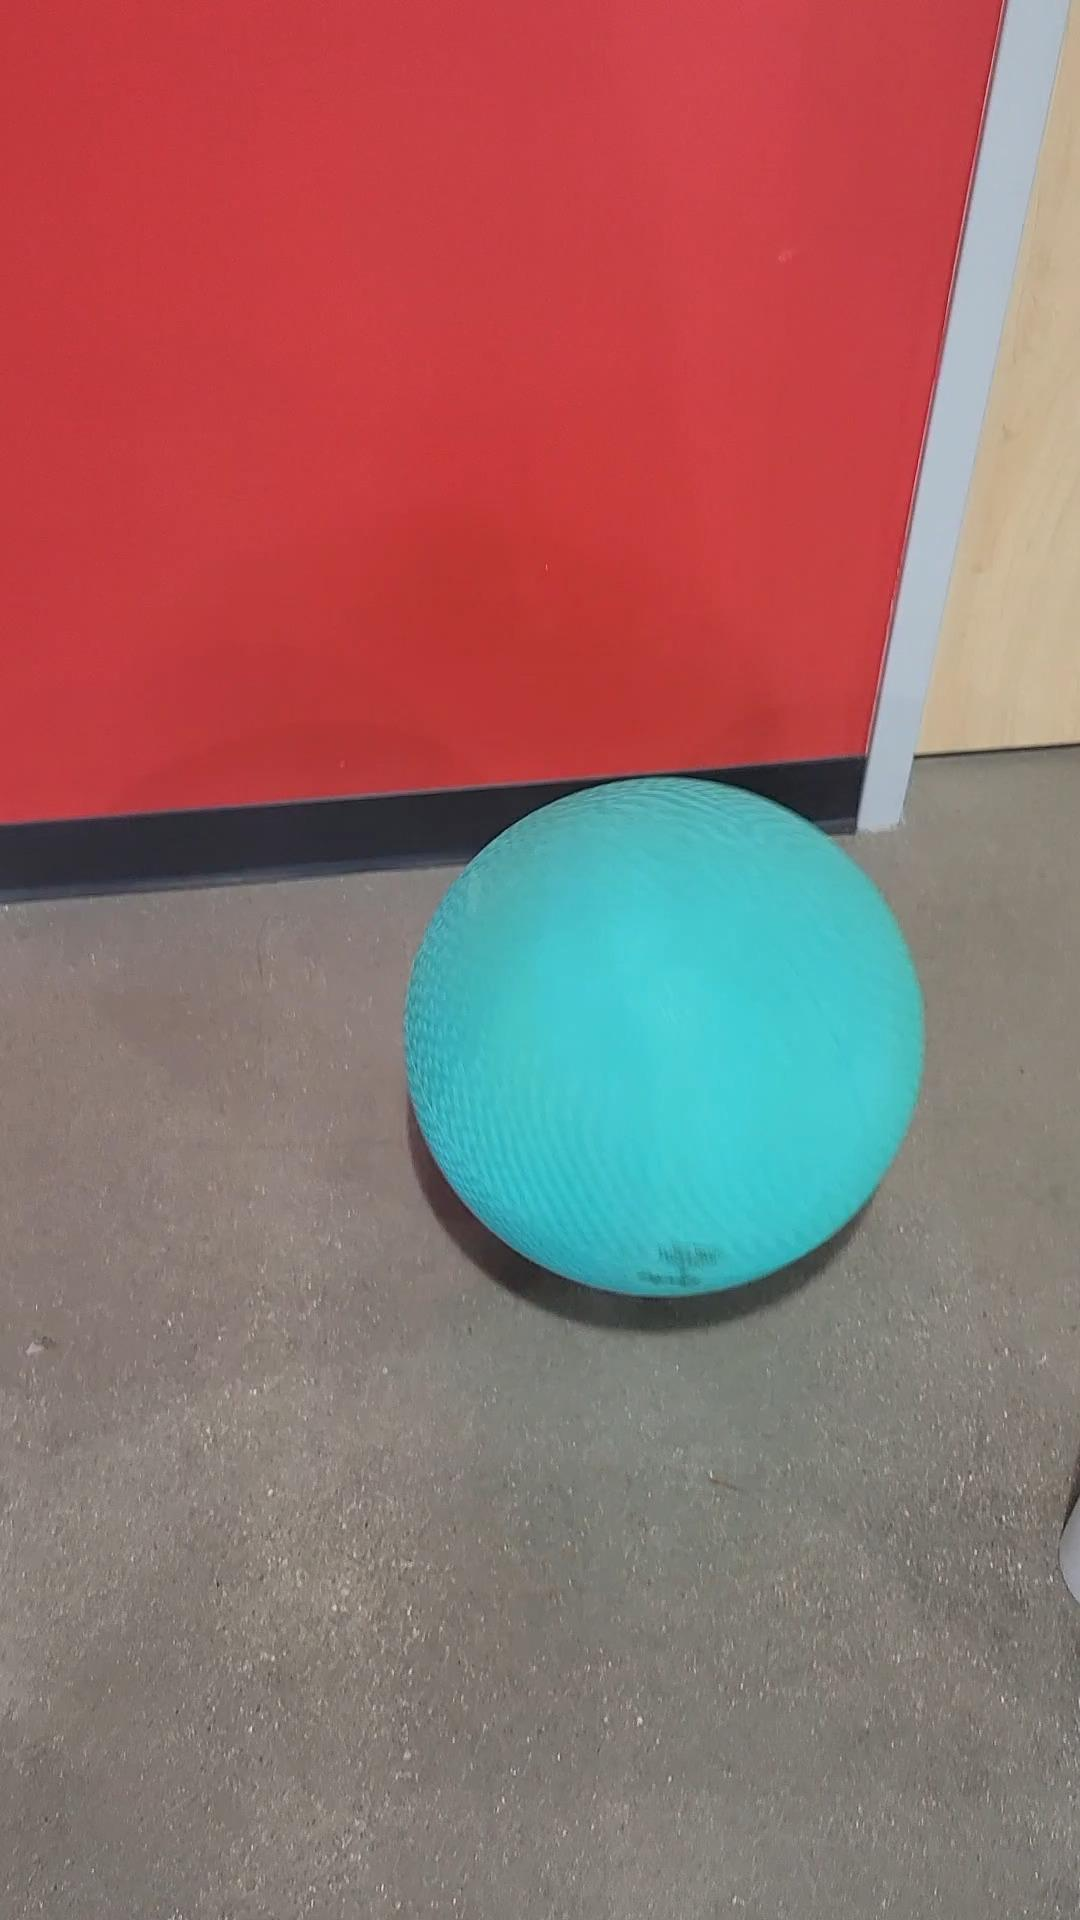algae: (406, 775, 923, 1296)
